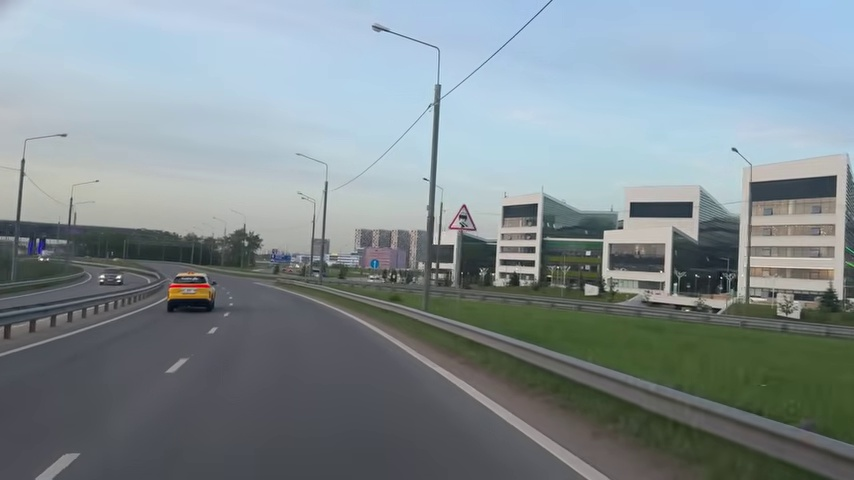apagada: (370, 21, 388, 38), (727, 144, 743, 159), (294, 149, 310, 163)
